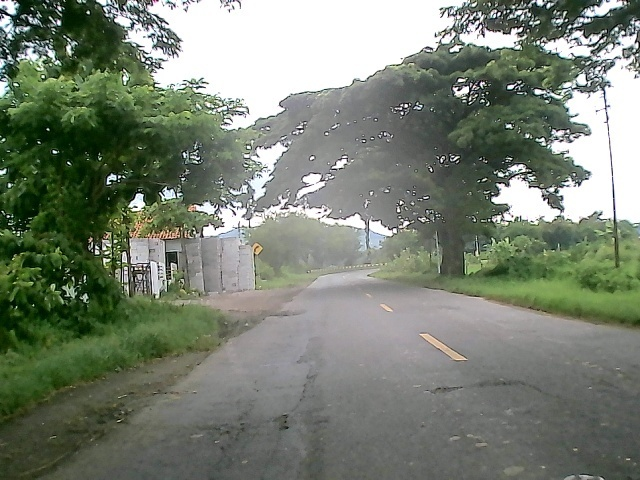Tikungan ke kanan: (251, 241, 264, 257)
